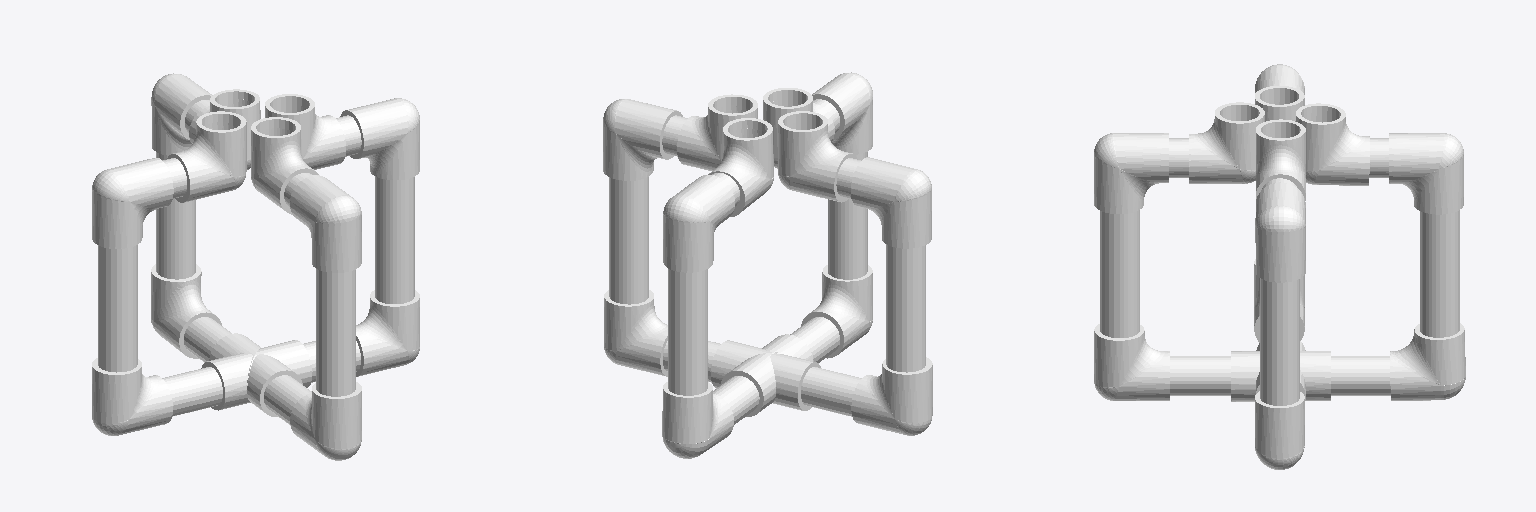
Rendered from garlic.obj.
The picture shows the model from 3 angles: view 1: azimuth 30°, elevation 25°; view 2: azimuth 150°, elevation 25°; view 3: azimuth 270°, elevation 25°; orthographic projection.
Parts seen in each view (by area): view 1: Bryła16, Bryła14, Bryła6, Bryła4, Bryła15, Bryła7, Bryła5, Bryła1, Bryła8, Bryła11, Bryła2, Bryła12 (+4 smaller); view 2: Bryła16, Bryła14, Bryła6, Bryła3, Bryła15, Bryła7, Bryła5, Bryła8, Bryła2, Bryła13, Bryła1, Bryła12 (+4 smaller); view 3: Bryła14, Bryła3, Bryła4, Bryła16, Bryła11, Bryła5, Bryła1, Bryła13, Bryła2, Bryła12, Bryła8, Bryła9 (+4 smaller).
Part boxes in pixels (x1,y1,x2,y2): Bryła16: (98,106,414,416); Bryła14: (156,99,355,425); Bryła6: (92,158,173,248); Bryła4: (290,175,361,272); Bryła15: (167,111,246,202); Bryła7: (92,358,172,435); Bryła5: (340,98,419,179); Bryła1: (290,382,361,460); Bryła8: (356,290,419,376); Bryła11: (251,117,318,214); Bryła2: (151,264,221,358); Bryła12: (265,94,345,169); Bryła16: (609,105,925,416); Bryła14: (668,99,867,424); Bryła6: (851,157,931,248); Bryła3: (663,175,734,272); Bryła15: (778,111,857,202); Bryła7: (851,357,932,435); Bryła5: (603,99,682,180); Bryła8: (604,290,667,376); Bryła2: (662,382,733,458); Bryła13: (708,118,773,216); Bryła1: (801,265,872,358); Bryła12: (677,94,757,170); Bryła14: (1100,116,1459,395); Bryła3: (1389,133,1463,214); Bryła4: (1094,133,1168,213); Bryła16: (1260,99,1299,405); Bryła11: (1189,102,1264,183); Bryła5: (1255,182,1305,282); Bryła1: (1094,324,1169,400); Bryła13: (1295,103,1369,185); Bryła2: (1390,323,1465,400); Bryła12: (1256,119,1305,200); Bryła8: (1255,391,1304,469); Bryła9: (1256,351,1330,400).
Bounding box in the file's own units: 236 × 200 × 236.